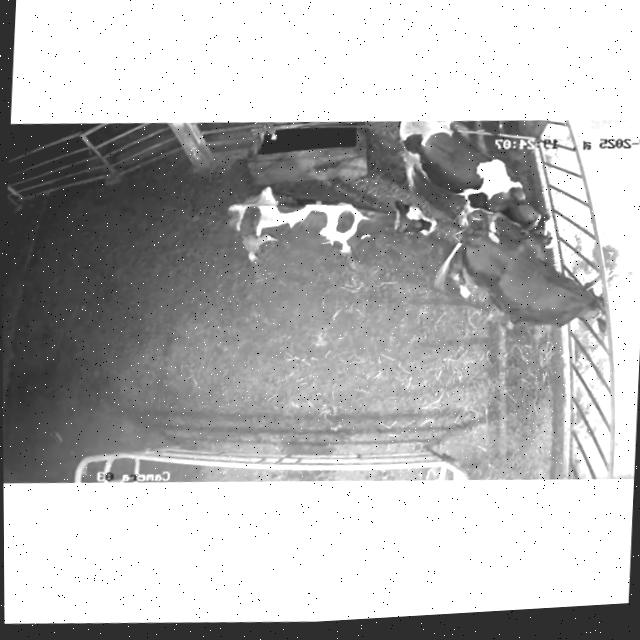stand: (228, 186, 437, 262), (400, 120, 545, 229)
